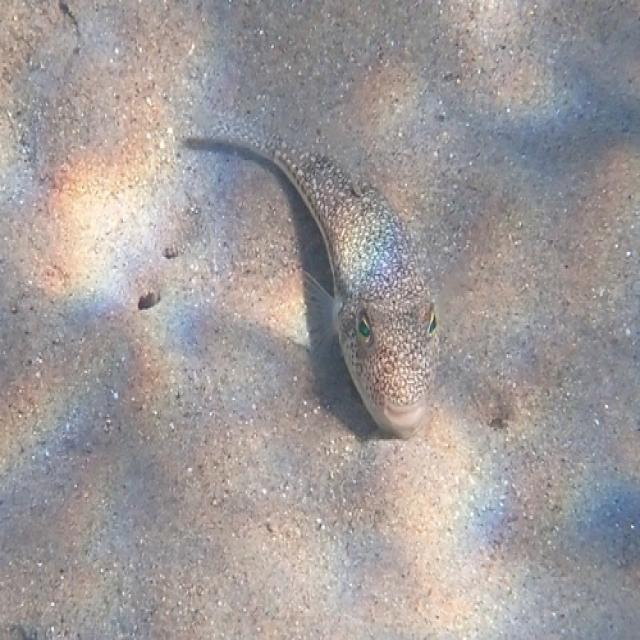Balik: (185, 123, 437, 439)
